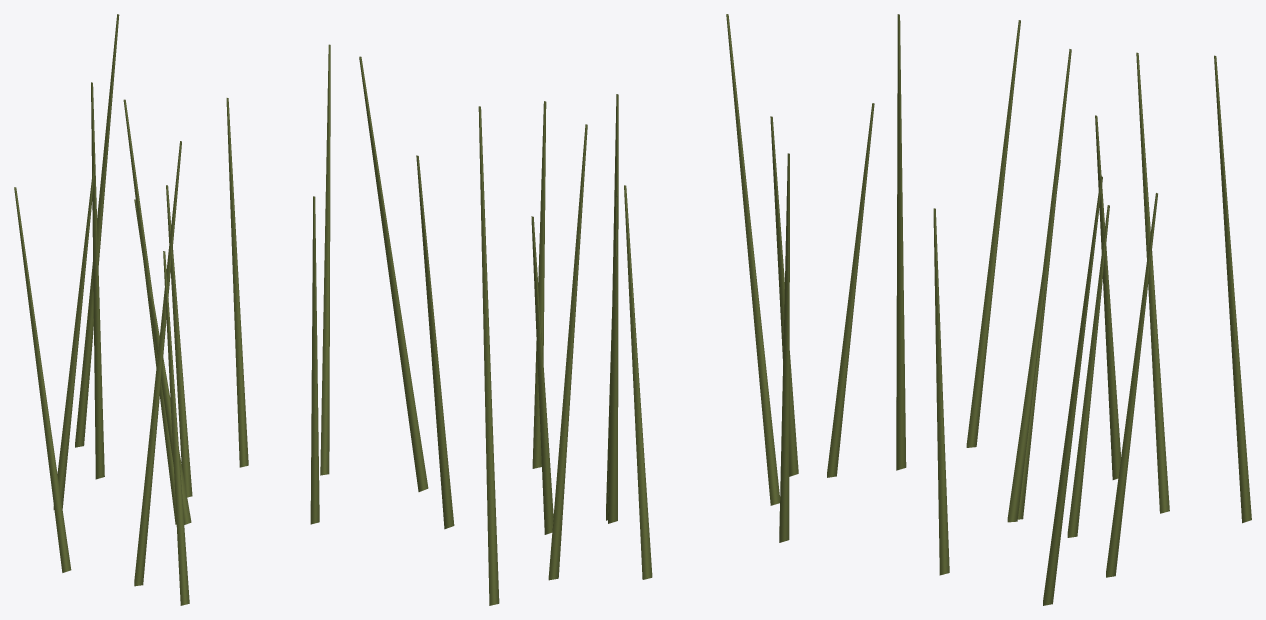
File: caral_totora_lod1.glb
The picture shows the model from 3 angles, left to right: view 1: azimuth 30°, elevation 25°; view 2: azimuth 150°, elevation 25°; view 3: azimuth 270°, elevation 25°; orthographic projection. The views are drawn at different scales.
Parts seen in each view (by area): view 1: GEO-Kit_totora_LOD1; view 2: GEO-Kit_totora_LOD1; view 3: GEO-Kit_totora_LOD1.
Part boxes in pixels (box(x1,y1,x2,y2)): GEO-Kit_totora_LOD1: box(14, 14, 330, 605); GEO-Kit_totora_LOD1: box(359, 14, 798, 605); GEO-Kit_totora_LOD1: box(827, 14, 1251, 605).
Size of the model in its own units: 2.03 by 2.39 by 1.92.
